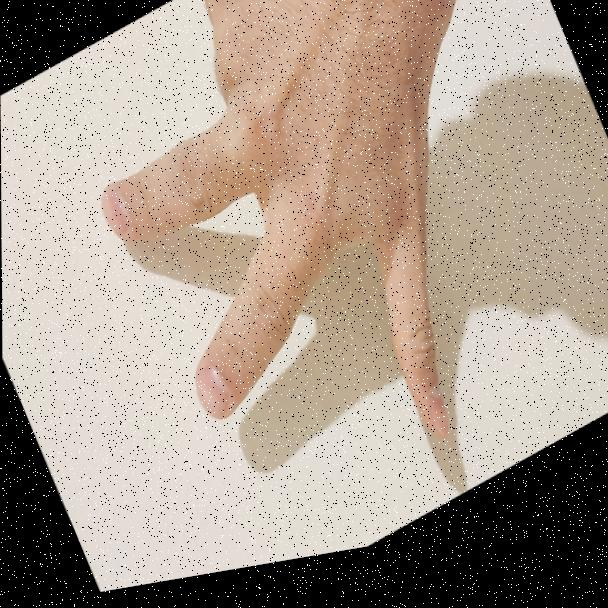three: (60, 0, 558, 600)
